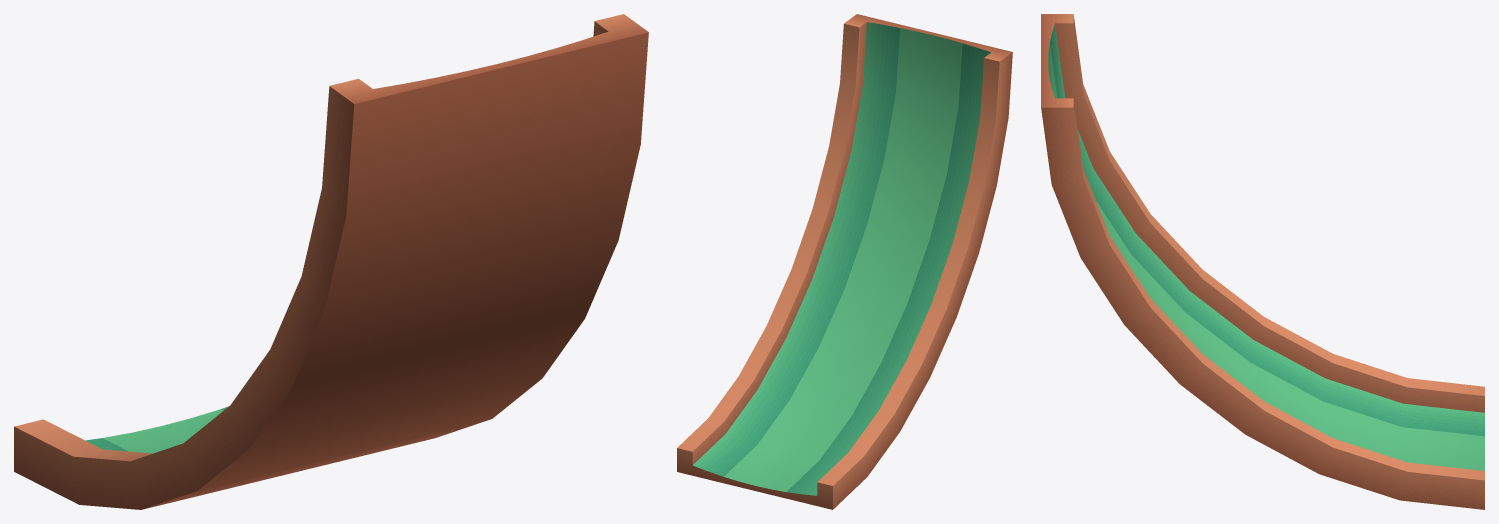
File: spline-concave-straight-bend.glb
The picture shows the model from 3 angles, left to right: view 1: azimuth 30°, elevation 25°; view 2: azimuth 150°, elevation 25°; view 3: azimuth 270°, elevation 25°; orthographic projection. The views are drawn at different scales.
Visible parts, largest first — view 1: spline-concave-straight-bend; view 2: spline-concave-straight-bend; view 3: spline-concave-straight-bend.
Part boxes in pixels (x1,y1,x2,y2): spline-concave-straight-bend: (14, 14, 648, 509); spline-concave-straight-bend: (677, 14, 1012, 509); spline-concave-straight-bend: (1041, 14, 1484, 509).
Bounding box in the file's own units: 0.9999 × 2 × 2.
1 material, 1 textured.
